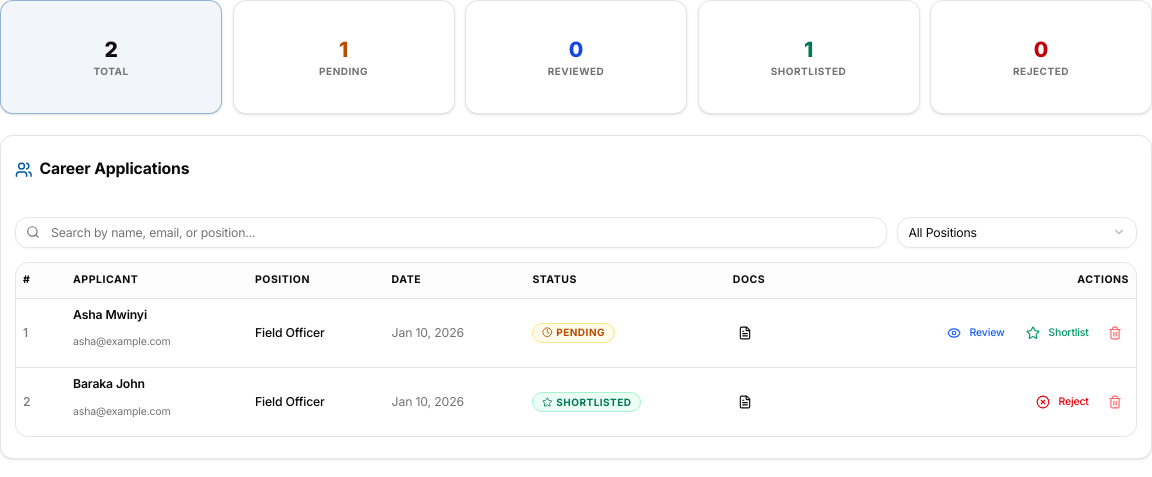
it: HRApplicationsSubtab › filters by status when a stat card is clicked
The width and height of the screenshot is (1152, 477).
Click the text "Shortlisted". click: x=808, y=71
box: [771, 65, 846, 77]
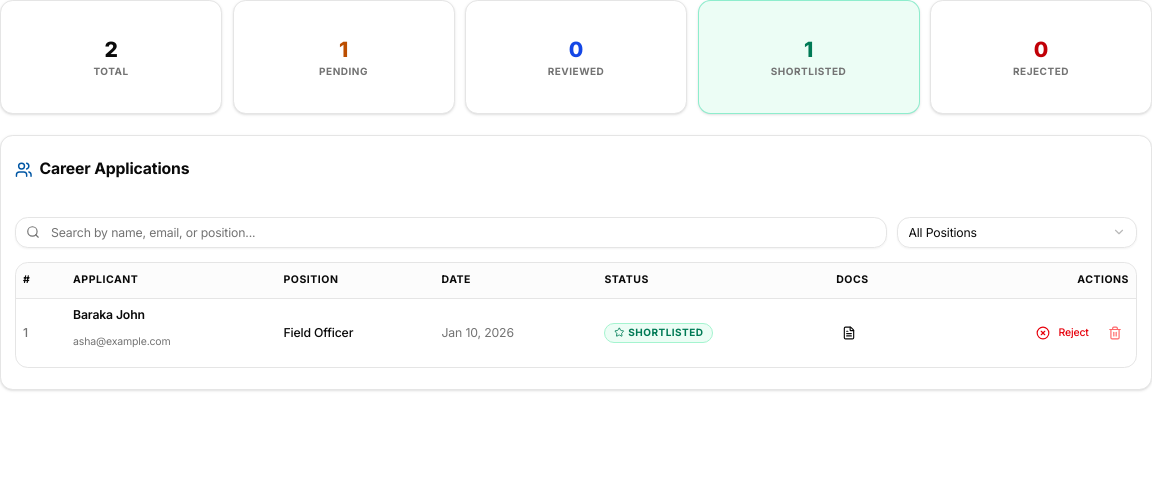
Expected: the text "Baraka John" is shown, [73, 306, 145, 322]
Expected: the text "Asha Mwinyi" is gone
